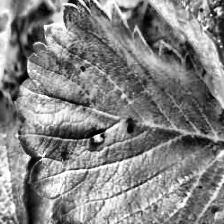Leaf Spot: (11, 0, 224, 224), (124, 0, 224, 132), (0, 87, 32, 223), (24, 182, 58, 224)
